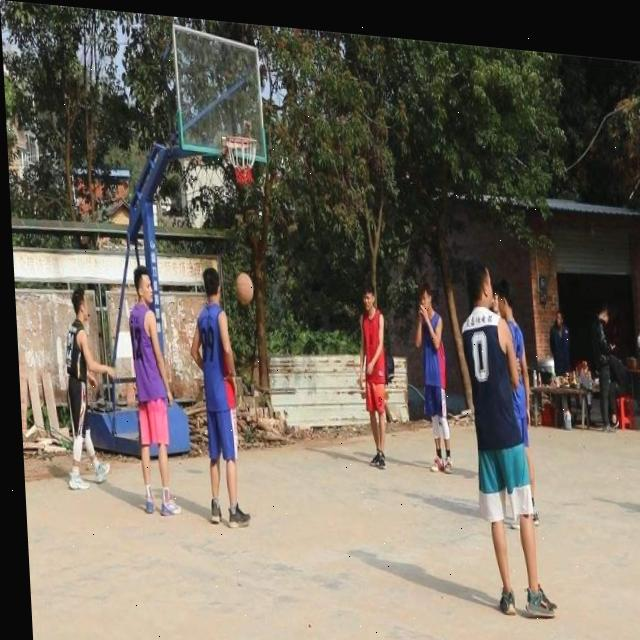basketball: (236, 270, 255, 306)
hoop: (226, 135, 259, 188)
